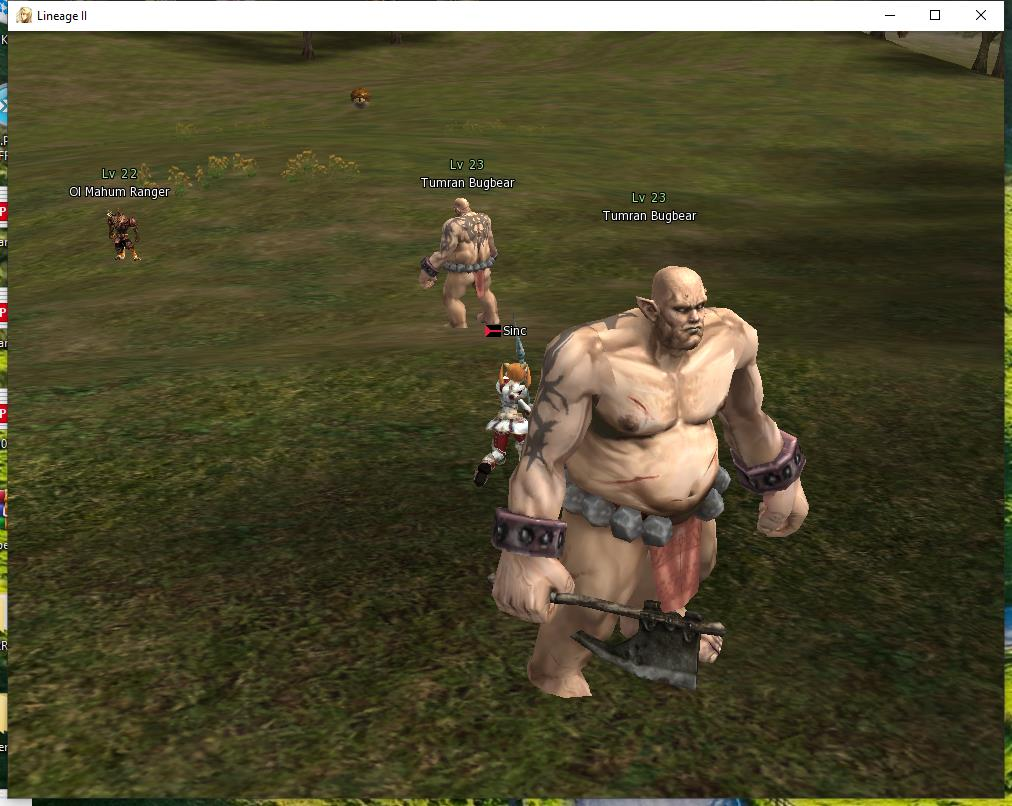monster: (525, 173, 805, 705), (408, 153, 520, 342), (60, 145, 174, 283), (348, 82, 376, 114)
